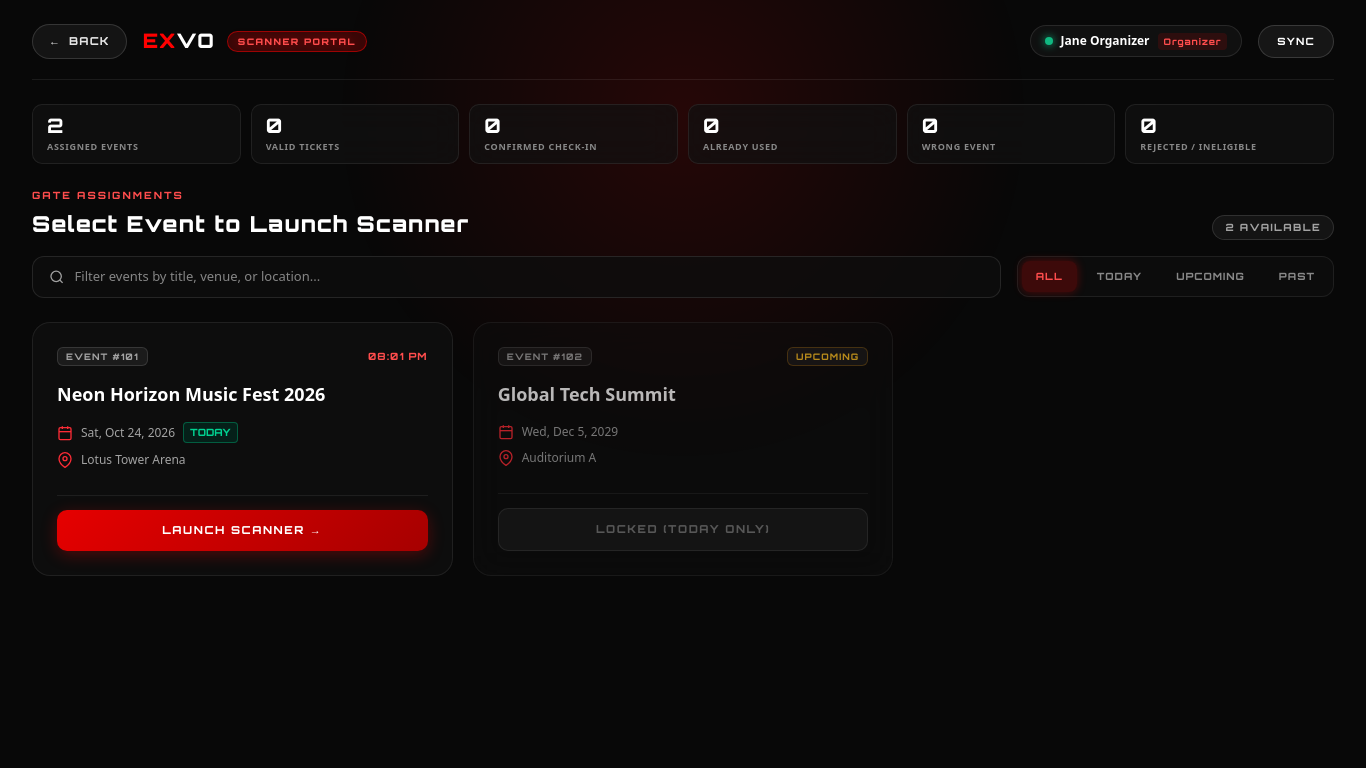
Test case: CoordinatorScannerPortal (SCRUM-30) › validates a ticket code manually and displays success feedback
Expected: the heading "Neon Horizon Music Fest 2026" is shown, [57, 382, 325, 406]
Click the button "LAUNCH SCANNER →" at x=242, y=531, box [57, 510, 428, 551]
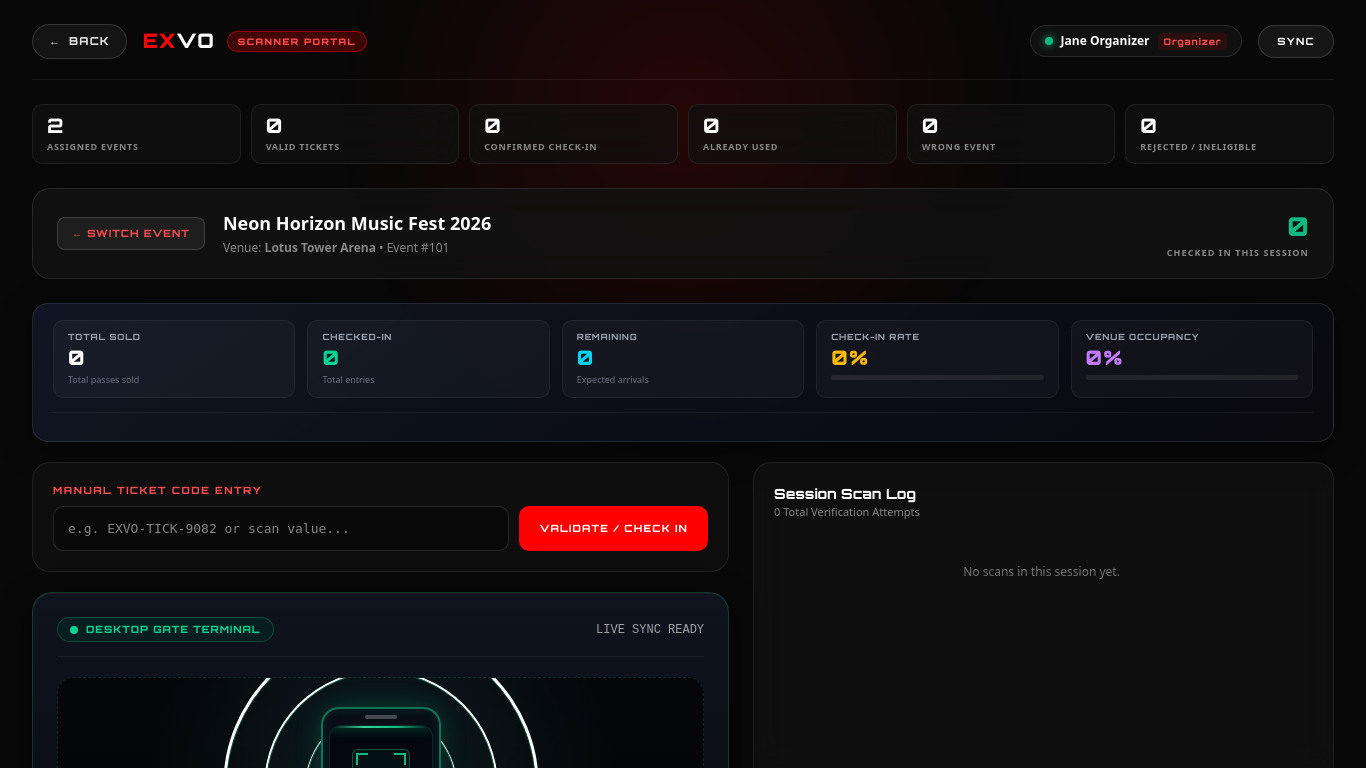
Expected: the field labelled "MANUAL TICKET CODE ENTRY" is shown
Type "EXVO-TICK-101" into the field labelled "MANUAL TICKET CODE ENTRY" at x=281, y=529, box [53, 506, 510, 551]
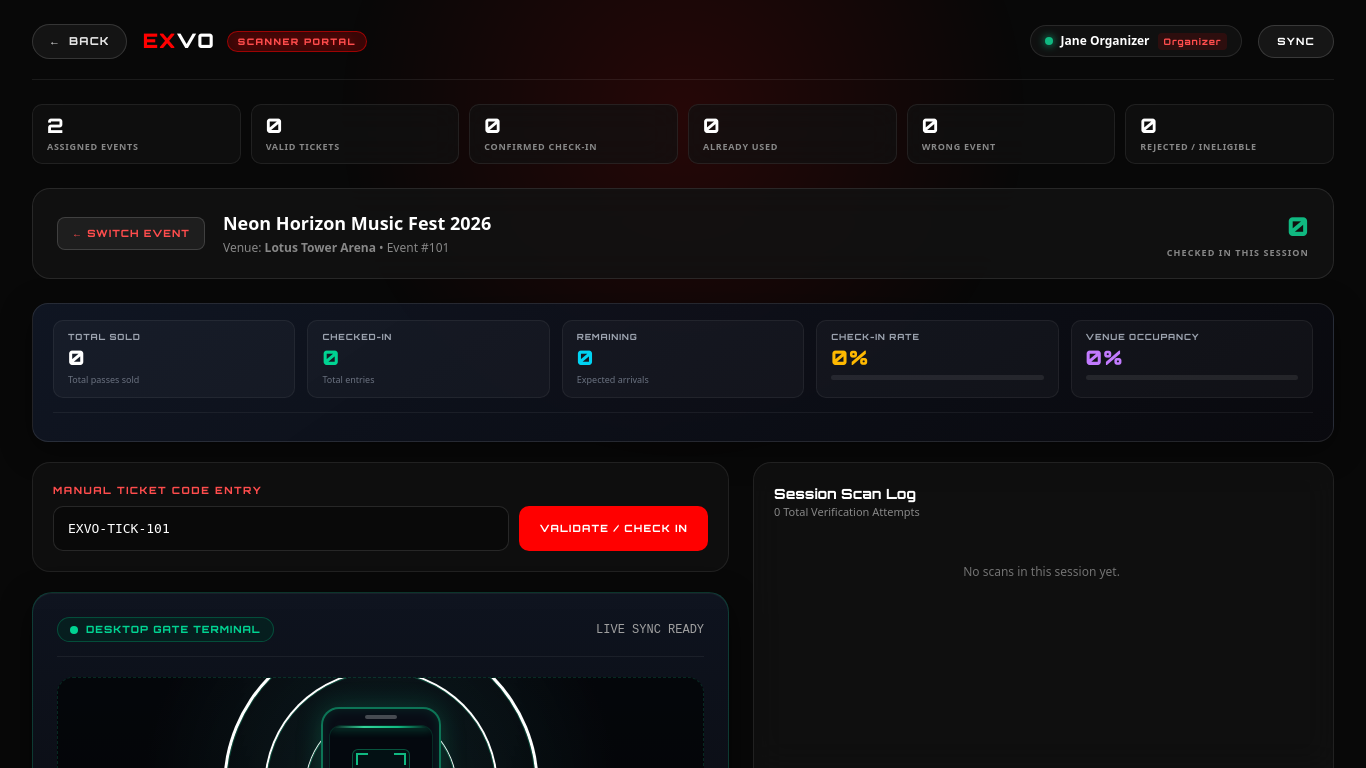
Click the button "VALIDATE / CHECK IN" at x=614, y=529, box [520, 506, 708, 551]
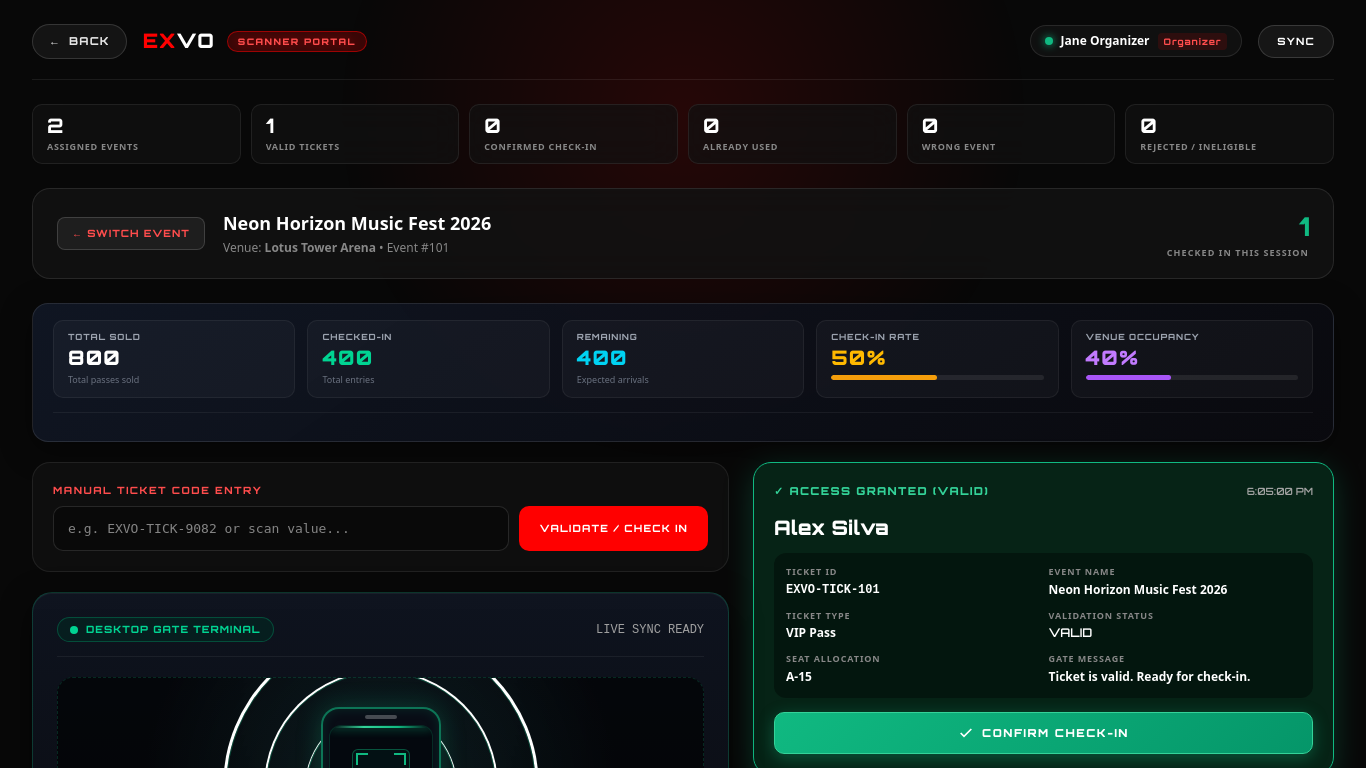
Expected: the text "✓ ACCESS GRANTED (VALID)" is shown, [774, 483, 989, 499]
Expected: the text "Alex Silva" is shown, [774, 515, 889, 540]
Expected: the text "VIP Pass" is shown, [786, 624, 836, 641]
